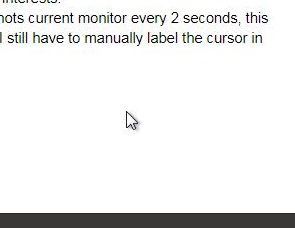cursor: (123, 109, 140, 132)
